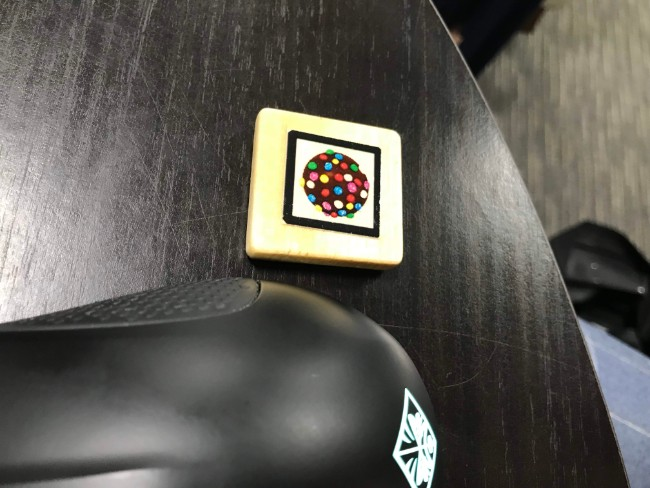cookie: (269, 125, 398, 246)
